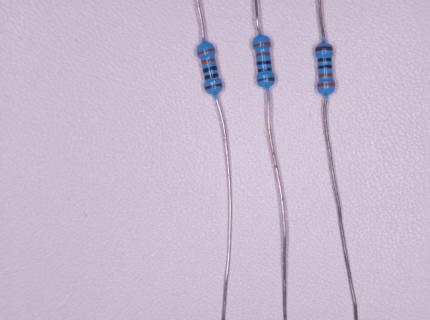Black band: (203, 66, 217, 73), (205, 74, 218, 80), (258, 67, 272, 72), (256, 61, 271, 65), (318, 58, 332, 62), (318, 65, 332, 69)
Brown band: (205, 84, 222, 90), (315, 46, 333, 51), (257, 78, 275, 82)
Orange band: (198, 49, 215, 56), (253, 42, 271, 48), (201, 58, 215, 65), (318, 73, 332, 78), (256, 52, 270, 57), (318, 83, 335, 87)
